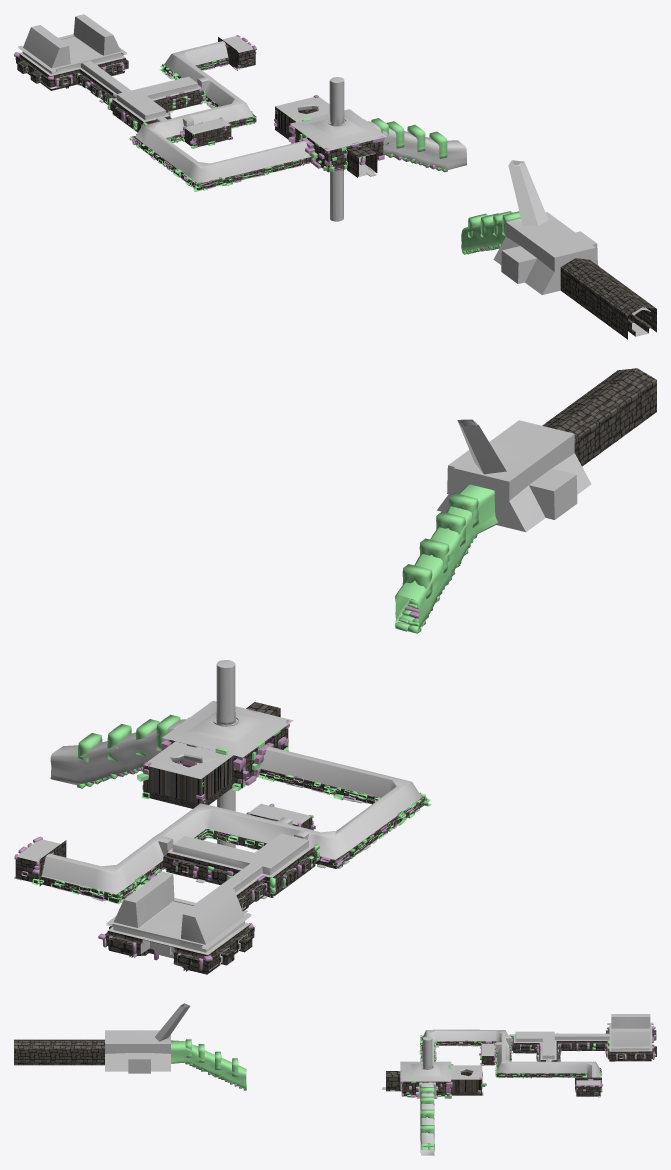
File: TombLevel1_2.FBX
3 views of the same model, one above another, from view 1: azimuth 30°, elevation 25°; view 2: azimuth 150°, elevation 25°; view 3: azimuth 270°, elevation 25° (orthographic). The views are drawn at different scales.
Visible parts, largest first — view 1: Tomb_Alley2, Tomb_ThousandsEyesRoomR3 (×2), TombPentacleR2, TombR_CenterR1, Tomb_AlleyFinal, Tomb_Alley3, GofRockFirstAlley, TombT_Down, Tomb_Alley1, Well, TombT_First, GofEyesRoomBrick; view 2: Tomb_Alley2, Tomb_ThousandsEyesRoomR3, TombR_CenterR1, TombPentacleR2, Tomb_AlleyFinal, Tomb_Alley1, Tomb_Alley3, GofRockFirstAlley, TombT_First, TombT_Down, GofEyesRoomBrick; view 3: Tomb_ThousandsEyesRoomR3 (×2), Tomb_Alley2, TombR_CenterR1, TombPentacleR2, Tomb_AlleyFinal, Tomb_Alley1, GofRockFirstAlley, Tomb_Alley3, TombT_Down, TombT_First, GofEyesRoomBrick.
Boxes of the visible parts, <box> form: Tomb_Alley2: <box>132,36,311,190</box>; Tomb_ThousandsEyesRoomR3 (×2): <box>15,14,203,132</box>; TombPentacleR2: <box>493,160,598,294</box>; TombR_CenterR1: <box>274,77,386,177</box>; Tomb_AlleyFinal: <box>560,258,656,339</box>; Tomb_Alley3: <box>367,121,466,169</box>; GofRockFirstAlley: <box>129,35,310,191</box>; TombT_Down: <box>371,118,447,158</box>; Tomb_Alley1: <box>461,217,520,251</box>; Well: <box>330,170,343,221</box>; TombT_First: <box>468,211,520,237</box>; GofEyesRoomBrick: <box>14,52,205,130</box>; Tomb_Alley2: <box>15,746,425,902</box>; Tomb_ThousandsEyesRoomR3: <box>105,833,317,974</box>; TombR_CenterR1: <box>137,660,293,808</box>; TombPentacleR2: <box>437,419,591,531</box>; Tomb_AlleyFinal: <box>542,368,656,466</box>; Tomb_Alley1: <box>394,484,497,630</box>; Tomb_Alley3: <box>50,719,185,785</box>; GofRockFirstAlley: <box>14,772,431,904</box>; TombT_First: <box>402,493,478,599</box>; TombT_Down: <box>78,714,180,762</box>; GofEyesRoomBrick: <box>98,843,319,971</box>; Tomb_ThousandsEyesRoomR3 (×2): <box>512,1014,656,1061</box>; Tomb_Alley2: <box>421,1029,601,1096</box>; TombR_CenterR1: <box>382,1036,486,1098</box>; TombPentacleR2: <box>105,1003,190,1073</box>; Tomb_AlleyFinal: <box>14,1039,104,1065</box>; Tomb_Alley1: <box>171,1040,246,1089</box>; GofRockFirstAlley: <box>419,1035,603,1094</box>; Tomb_Alley3: <box>420,1082,434,1155</box>; TombT_Down: <box>420,1087,434,1139</box>; TombT_First: <box>185,1039,238,1076</box>; GofEyesRoomBrick: <box>509,1026,655,1061</box>.
Size of what is drawn, in the model's own units: 5931 by 3725 by 17096.
